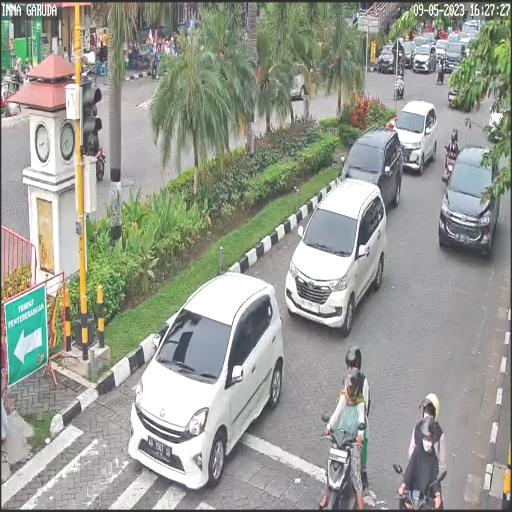mobil: (123, 267, 290, 498), (280, 174, 391, 344), (439, 146, 503, 267), (342, 121, 404, 211), (393, 95, 439, 175)
motor: (318, 400, 366, 512)
